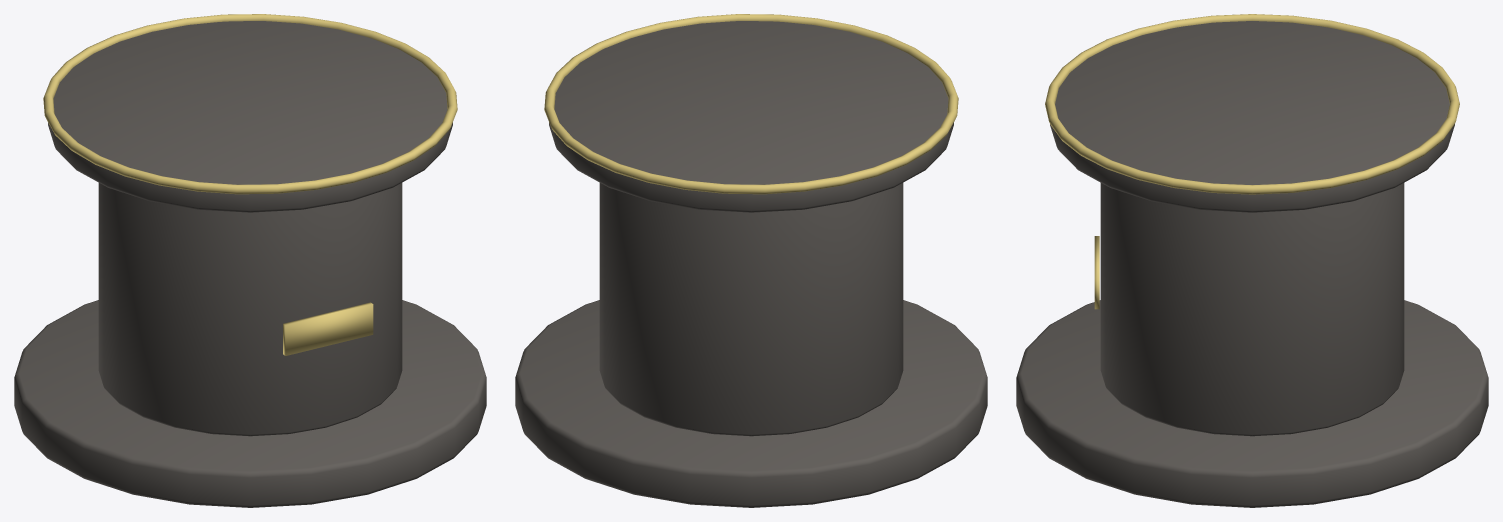
File: museum_pedestal.glb
3 views of the same model, side by side, from view 1: azimuth 30°, elevation 25°; view 2: azimuth 150°, elevation 25°; view 3: azimuth 270°, elevation 25° (orthographic).
Visible parts, largest first — view 1: MuseumPedestal; view 2: MuseumPedestal; view 3: MuseumPedestal.
Boxes of the visible parts, x1,y1,x2,y2 form: MuseumPedestal: [14, 14, 486, 507]; MuseumPedestal: [515, 14, 987, 507]; MuseumPedestal: [1016, 14, 1488, 507].
Size of the model in its own units: 1.4 by 1.01 by 1.4.
